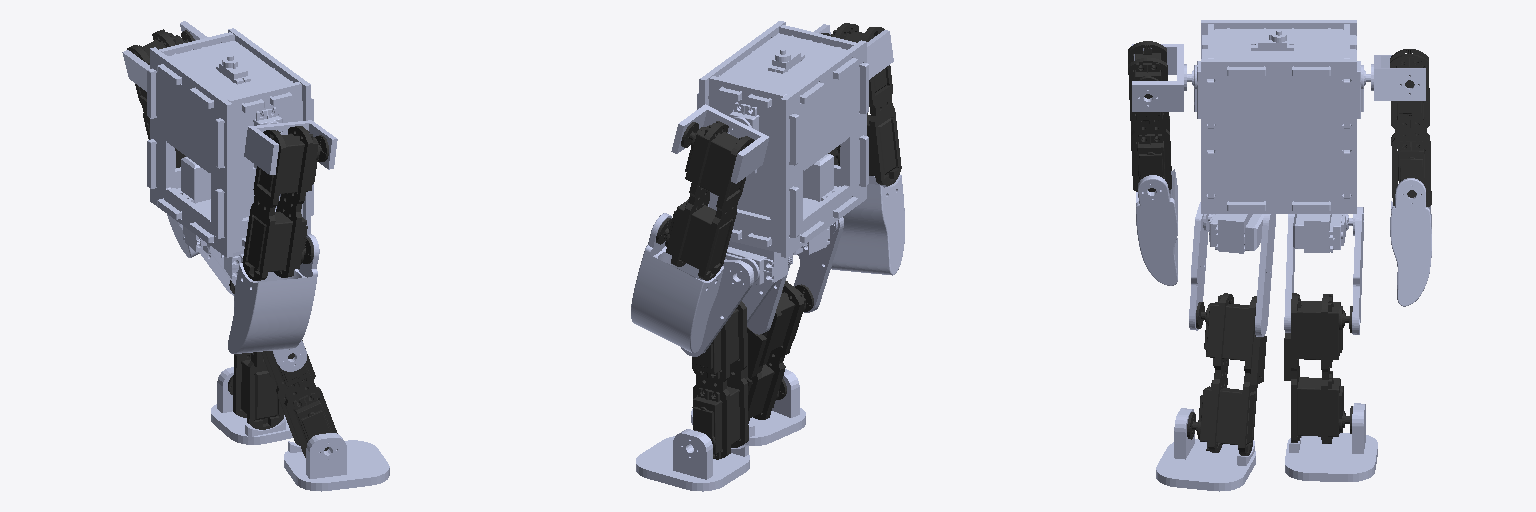
robot.urdf — body_urdf_files:
<?xml version="1.0" encoding="utf-8"?>
<!-- This URDF was automatically created by SolidWorks to URDF Exporter! Originally created by [author] ([email redacted]) 
     Commit Version: 1.6.0-4-g7f85cfe  Build Version: 1.6.7995.38578
     For more information, please see http://wiki.ros.org/sw_urdf_exporter -->
<robot
  name="body_urdf_files">
  <link
    name="base_link">
    <inertial>
      <origin
        xyz="-0.11271 0.008711 0.082756"
        rpy="0 0 0" />
      <mass
        value="0.42184" />
      <inertia
        ixx="0.00054477"
        ixy="1.2005E-12"
        ixz="5.5825E-07"
        iyy="0.00040696"
        iyz="-3.7046E-08"
        izz="0.00034189" />
    </inertial>
    <visual>
      <origin
        xyz="0 0 0"
        rpy="0 0 0" />
      <geometry>
        <mesh
          filename="package://body_urdf_files/meshes/base_link.STL" />
      </geometry>
      <material
        name="">
        <color
          rgba="0.79216 0.81961 0.93333 1" />
      </material>
    </visual>
    <collision>
      <origin
        xyz="0 0 0"
        rpy="0 0 0" />
      <geometry>
        <mesh
          filename="package://body_urdf_files/meshes/base_link_collision.STL" />
      </geometry>
    </collision>
  </link>
  <link
    name="link_right_leg_1">
    <inertial>
      <origin
        xyz="0.00063243 0.0010516 -0.015001"
        rpy="0 0 0" />
      <mass
        value="0.045094" />
      <inertia
        ixx="6.95E-06"
        ixy="6.6322E-07"
        ixz="-1.7314E-14"
        iyy="1.0766E-05"
        iyz="-6.5247E-13"
        izz="1.417E-05" />
    </inertial>
    <visual>
      <origin
        xyz="0 0 0"
        rpy="0 0 0" />
      <geometry>
        <mesh
          filename="package://body_urdf_files/meshes/link_right_leg_1.STL" />
      </geometry>
      <material
        name="">
        <color
          rgba="0.79216 0.81961 0.93333 1" />
      </material>
    </visual>
    <collision>
      <origin
        xyz="0 0 0"
        rpy="0 0 0" />
      <geometry>
        <mesh
          filename="package://body_urdf_files/meshes/link_right_leg_1_collision.STL" />
      </geometry>
    </collision>
  </link>
  <joint
    name="joint_right_leg_1"
    type="revolute">
    <origin
      xyz="-0.1037 -0.021946 0.012166"
      rpy="0 0 3.1416" />
    <parent
      link="base_link" />
    <child
      link="link_right_leg_1" />
    <axis
      xyz="0 0 -1" />
    <limit
      lower="-1.57"
      upper="1.57"
      effort="0.9218"
      velocity="0.2" />
  </joint>
  <link
    name="link_right_leg_2">
    <inertial>
      <origin
        xyz="-0.0179411667908212 -0.0191465626137488 -0.0347537052405199"
        rpy="0 0 0" />
      <mass
        value="0.0235211183496437" />
      <inertia
        ixx="1.57759234089372E-05"
        ixy="6.36270538890195E-07"
        ixz="-4.58679749286696E-06"
        iyy="1.82616481047403E-05"
        iyz="1.10583812995229E-06"
        izz="2.8905282600421E-06" />
    </inertial>
    <visual>
      <origin
        xyz="0 0 0"
        rpy="0 0 0" />
      <geometry>
        <mesh
          filename="package://body_urdf_files/meshes/link_right_leg_2.STL" />
      </geometry>
      <material
        name="">
        <color
          rgba="0.792156862745098 0.819607843137255 0.933333333333333 1" />
      </material>
    </visual>
    <collision>
      <origin
        xyz="0 0 0"
        rpy="0 0 0" />
      <geometry>
        <mesh
          filename="package://body_urdf_files/meshes/link_right_leg_2_collision.STL" />
      </geometry>
    </collision>
  </link>
  <joint
    name="joint_right_leg_2"
    type="revolute">
    <origin
      xyz="0.016668 0.025401 -0.01725"
      rpy="0 0 0" />
    <parent
      link="link_right_leg_1" />
    <child
      link="link_right_leg_2" />
    <axis
      xyz="0.23438 0.97215 0" />
    <limit
      lower="-1.57"
      upper="1.57"
      effort="0.9218"
      velocity="0.2" />
  </joint>
  <link
    name="link_right_leg_3">
    <inertial>
      <origin
        xyz="-0.0201854124676288 -0.0252249251338612 -0.0401938897572681"
        rpy="0 0 0" />
      <mass
        value="0.0885710277412263" />
      <inertia
        ixx="3.60043673271805E-05"
        ixy="-5.74462834908742E-07"
        ixz="-7.42124531609947E-06"
        iyy="3.37601077925232E-05"
        iyz="1.78919945034082E-06"
        izz="1.63682608050573E-05" />
    </inertial>
    <visual>
      <origin
        xyz="0 0 0"
        rpy="0 0 0" />
      <geometry>
        <mesh
          filename="package://body_urdf_files/meshes/link_right_leg_3.STL" />
      </geometry>
      <material
        name="">
        <color
          rgba="0.250980392156863 0.250980392156863 0.250980392156863 1" />
      </material>
    </visual>
    <collision>
      <origin
        xyz="0 0 0"
        rpy="0 0 0" />
      <geometry>
        <mesh
          filename="package://body_urdf_files/meshes/link_right_leg_3_collision.STL" />
      </geometry>
    </collision>
  </link>
  <joint
    name="joint_right_leg_3"
    type="revolute">
    <origin
      xyz="-0.024254 0.0058474 -0.07164"
      rpy="0 0 0" />
    <parent
      link="link_right_leg_2" />
    <child
      link="link_right_leg_3" />
    <axis
      xyz="0.23438 0.97215 0" />
    <limit
      lower="-1.57"
      upper="1.57"
      effort="0.9218"
      velocity="0.2" />
  </joint>
  <link
    name="link_right_leg_4">
    <inertial>
      <origin
        xyz="0.015863 -0.018727 0.021827"
        rpy="0 0 0" />
      <mass
        value="0.043507" />
      <inertia
        ixx="1.92E-05"
        ixy="1.3179E-06"
        ixz="-2.293E-06"
        iyy="2.0588E-05"
        iyz="1.9775E-06"
        izz="3.3366E-05" />
    </inertial>
    <visual>
      <origin
        xyz="0 0 0"
        rpy="0 0 0" />
      <geometry>
        <mesh
          filename="package://body_urdf_files/meshes/link_right_leg_4.STL" />
      </geometry>
      <material
        name="">
        <color
          rgba="0.79216 0.81961 0.93333 1" />
      </material>
    </visual>
    <collision>
      <origin
        xyz="0 0 0"
        rpy="0 0 0" />
      <geometry>
        <mesh
          filename="package://body_urdf_files/meshes/link_right_leg_4_collision.STL" />
      </geometry>
    </collision>
  </link>
  <joint
    name="joint_right_leg_4"
    type="revolute">
    <origin
      xyz="-0.024947 0.015272 -0.081588"
      rpy="3.1416 0 3.1416" />
    <parent
      link="link_right_leg_3" />
    <child
      link="link_right_leg_4" />
    <axis
      xyz="-0.23438 0.97215 0" />
    <limit
      lower="-1.57"
      upper="1.57"
      effort="0.9218"
      velocity="0.2" />
  </joint>
  <link
    name="link_left_leg_1">
    <inertial>
      <origin
        xyz="0.000289531083426817 -0.00119245301812246 -0.0150006224241497"
        rpy="0 0 0" />
      <mass
        value="0.045093545635916" />
      <inertia
        ixx="6.91232751465115E-06"
        ixy="5.42705206394702E-07"
        ixz="-2.03242021535869E-13"
        iyy="1.0803797279876E-05"
        iyz="-6.35887197655272E-13"
        izz="1.41697361849742E-05" />
    </inertial>
    <visual>
      <origin
        xyz="0 0 0"
        rpy="0 0 0" />
      <geometry>
        <mesh
          filename="package://body_urdf_files/meshes/link_left_leg_1.STL" />
      </geometry>
      <material
        name="">
        <color
          rgba="0.792156862745098 0.819607843137255 0.933333333333333 1" />
      </material>
    </visual>
    <collision>
      <origin
        xyz="0 0 0"
        rpy="0 0 0" />
      <geometry>
        <mesh
          filename="package://body_urdf_files/meshes/link_left_leg_1_collision.STL" />
      </geometry>
    </collision>
  </link>
  <joint
    name="joint_left_leg_1"
    type="revolute">
    <origin
      xyz="-0.1037 0.039488 0.012166"
      rpy="0 0 3.1416" />
    <parent
      link="base_link" />
    <child
      link="link_left_leg_1" />
    <axis
      xyz="0 0 -1" />
    <limit
      lower="-1.57"
      upper="1.57"
      effort="0.9218"
      velocity="0.2" />
  </joint>
  <link
    name="link_left_leg_2">
    <inertial>
      <origin
        xyz="-0.019188 0.024151 -0.030739"
        rpy="0 0 0" />
      <mass
        value="0.023521" />
      <inertia
        ixx="1.2791E-05"
        ixy="3.7565E-07"
        ixz="-7.0887E-06"
        iyy="1.839E-05"
        iyz="4.7346E-07"
        izz="5.7474E-06" />
    </inertial>
    <visual>
      <origin
        xyz="0 0 0"
        rpy="0 0 0" />
      <geometry>
        <mesh
          filename="package://body_urdf_files/meshes/link_left_leg_2.STL" />
      </geometry>
      <material
        name="">
        <color
          rgba="0.79216 0.81961 0.93333 1" />
      </material>
    </visual>
    <collision>
      <origin
        xyz="0 0 0"
        rpy="0 0 0" />
      <geometry>
        <mesh
          filename="package://body_urdf_files/meshes/link_left_leg_2_collision.STL" />
      </geometry>
    </collision>
  </link>
  <joint
    name="joint_left_leg_2"
    type="revolute">
    <origin
      xyz="0.0083212 -0.02922 -0.01725"
      rpy="0 0 0" />
    <parent
      link="link_left_leg_1" />
    <child
      link="link_left_leg_2" />
    <axis
      xyz="0.066643 0.99778 0" />
    <limit
      lower="-1.57"
      upper="1.57"
      effort="0.9218"
      velocity="0.2" />
  </joint>
  <link
    name="link_left_leg_3">
    <inertial>
      <origin
        xyz="0.00261355430144429 0.0291439049418027 -0.0424629084715156"
        rpy="0 0 0" />
      <mass
        value="0.0885710279106685" />
      <inertia
        ixx="3.8718083970177E-05"
        ixy="-3.40398542135061E-07"
        ixz="3.90589175561294E-07"
        iyy="3.36443452169483E-05"
        iyz="-2.60878387824978E-08"
        izz="1.3770307002436E-05" />
    </inertial>
    <visual>
      <origin
        xyz="0 0 0"
        rpy="0 0 0" />
      <geometry>
        <mesh
          filename="package://body_urdf_files/meshes/link_left_leg_3.STL" />
      </geometry>
      <material
        name="">
        <color
          rgba="0.250980392156863 0.250980392156863 0.250980392156863 1" />
      </material>
    </visual>
    <collision>
      <origin
        xyz="0 0 0"
        rpy="0 0 0" />
      <geometry>
        <mesh
          filename="package://body_urdf_files/meshes/link_left_leg_3_collision.STL" />
      </geometry>
    </collision>
  </link>
  <joint
    name="joint_left_leg_3"
    type="revolute">
    <origin
      xyz="-0.040987 0.0027375 -0.063776"
      rpy="0 0 0" />
    <parent
      link="link_left_leg_2" />
    <child
      link="link_left_leg_3" />
    <axis
      xyz="0.066643 0.99778 0" />
    <limit
      lower="-1.57"
      upper="1.57"
      effort="0.9218"
      velocity="0.2" />
  </joint>
  <link
    name="link_left_leg_4">
    <inertial>
      <origin
        xyz="-0.0122739796083057 -0.0182225414807927 -0.021826744971205"
        rpy="0 0 0" />
      <mass
        value="0.0870145940816905" />
      <inertia
        ixx="3.9754670635112E-05"
        ixy="4.48152690031577E-09"
        ixz="-3.52336993284012E-06"
        iyy="3.98214690897593E-05"
        iyz="2.35329351813237E-07"
        izz="6.67325017223069E-05" />
    </inertial>
    <visual>
      <origin
        xyz="0 0 0"
        rpy="0 0 0" />
      <geometry>
        <mesh
          filename="package://body_urdf_files/meshes/link_left_leg_4.STL" />
      </geometry>
      <material
        name="">
        <color
          rgba="0.792156862745098 0.819607843137255 0.933333333333333 1" />
      </material>
    </visual>
    <collision>
      <origin
        xyz="0 0 0"
        rpy="0 0 0" />
      <geometry>
        <mesh
          filename="package://body_urdf_files/meshes/link_left_leg_4_collision.STL" />
      </geometry>
    </collision>
  </link>
  <joint
    name="joint_left_leg_4"
    type="revolute">
    <origin
      xyz="0.0013479 -9.0028E-05 -0.086194"
      rpy="0 0 0" />
    <parent
      link="link_left_leg_3" />
    <child
      link="link_left_leg_4" />
    <axis
      xyz="-0.066643 -0.99778 0" />
    <limit
      lower="-1.57"
      upper="1.57"
      effort="0.9218"
      velocity="0.2" />
  </joint>
  <link
    name="link_right_arm_1">
    <inertial>
      <origin
        xyz="0.00043229 0.013421 6.0742E-05"
        rpy="0 0 0" />
      <mass
        value="0.015438" />
      <inertia
        ixx="3.3686E-06"
        ixy="-9.3955E-08"
        ixz="-9.7163E-07"
        iyy="8.7062E-06"
        iyz="-1.3202E-08"
        izz="1.0147E-05" />
    </inertial>
    <visual>
      <origin
        xyz="0 0 0"
        rpy="0 0 0" />
      <geometry>
        <mesh
          filename="package://body_urdf_files/meshes/link_right_arm_1.STL" />
      </geometry>
      <material
        name="">
        <color
          rgba="0.79216 0.81961 0.93333 1" />
      </material>
    </visual>
    <collision>
      <origin
        xyz="0 0 0"
        rpy="0 0 0" />
      <geometry>
        <mesh
          filename="package://body_urdf_files/meshes/link_right_arm_1_collision.STL" />
      </geometry>
    </collision>
  </link>
  <joint
    name="joint_right_arm_1"
    type="revolute">
    <origin
      xyz="-0.11395 -0.064629 0.11681"
      rpy="0 0 3.1416" />
    <parent
      link="base_link" />
    <child
      link="link_right_arm_1" />
    <axis
      xyz="0 1 0" />
    <limit
      lower="-1.57"
      upper="1.57"
      effort="0.9218"
      velocity="0.2" />
  </joint>
  <link
    name="link_right_arm_2">
    <inertial>
      <origin
        xyz="0.0339602330058164 -0.00140695201636803 -0.0387802160392867"
        rpy="0 0 0" />
      <mass
        value="0.0843265047221693" />
      <inertia
        ixx="3.25873098555874E-05"
        ixy="1.14115097543406E-07"
        ixz="2.67119444403901E-06"
        iyy="3.8257358357345E-05"
        iyz="-8.12127143019655E-07"
        izz="1.39524623316252E-05" />
    </inertial>
    <visual>
      <origin
        xyz="0 0 0"
        rpy="0 0 0" />
      <geometry>
        <mesh
          filename="package://body_urdf_files/meshes/link_right_arm_2.STL" />
      </geometry>
      <material
        name="">
        <color
          rgba="0.250980392156863 0.250980392156863 0.250980392156863 1" />
      </material>
    </visual>
    <collision>
      <origin
        xyz="0 0 0"
        rpy="0 0 0" />
      <geometry>
        <mesh
          filename="package://body_urdf_files/meshes/link_right_arm_2_collision.STL" />
      </geometry>
    </collision>
  </link>
  <joint
    name="joint_right_arm_2"
    type="revolute">
    <origin
      xyz="-0.023568 0.0275 -0.0033117"
      rpy="0 0 0" />
    <parent
      link="link_right_arm_1" />
    <child
      link="link_right_arm_2" />
    <axis
      xyz="0.99027 0 0.13915" />
    <limit
      lower="-1.57"
      upper="1.57"
      effort="0.9218"
      velocity="0.2" />
  </joint>
  <link
    name="link_right_arm_3">
    <inertial>
      <origin
        xyz="0.024606 -0.0054508 -0.039884"
        rpy="0 0 0" />
      <mass
        value="0.034964" />
      <inertia
        ixx="2.2521E-05"
        ixy="5.7455E-07"
        ixz="4.2654E-06"
        iyy="3.1751E-05"
        iyz="-1.5469E-06"
        izz="1.7492E-05" />
    </inertial>
    <visual>
      <origin
        xyz="0 0 0"
        rpy="0 0 0" />
      <geometry>
        <mesh
          filename="package://body_urdf_files/meshes/link_right_arm_3.STL" />
      </geometry>
      <material
        name="">
        <color
          rgba="0.79216 0.81961 0.93333 1" />
      </material>
    </visual>
    <collision>
      <origin
        xyz="0 0 0"
        rpy="0 0 0" />
      <geometry>
        <mesh
          filename="package://body_urdf_files/meshes/link_right_arm_3_collision.STL" />
      </geometry>
    </collision>
  </link>
  <joint
    name="joint_right_arm_3"
    type="revolute">
    <origin
      xyz="0.011988 -0.0028598 -0.085319"
      rpy="0 0 0" />
    <parent
      link="link_right_arm_2" />
    <child
      link="link_right_arm_3" />
    <axis
      xyz="0.99027 0 0.13915" />
    <limit
      lower="-1.57"
      upper="1.57"
      effort="0.9218"
      velocity="0.2" />
  </joint>
  <link
    name="link_left_arm_1">
    <inertial>
      <origin
        xyz="0.00042348927780031 -0.0134210554645642 -0.000105920018624112"
        rpy="0 0 0" />
      <mass
        value="0.0154375276983831" />
      <inertia
        ixx="3.64724793651552E-06"
        ixy="9.20428943464276E-08"
        ixz="1.65980758563093E-06"
        iyy="8.70624786729584E-06"
        iyz="-2.30210907204673E-08"
        izz="9.868349574434E-06" />
    </inertial>
    <visual>
      <origin
        xyz="0 0 0"
        rpy="0 0 0" />
      <geometry>
        <mesh
          filename="package://body_urdf_files/meshes/link_left_arm_1.STL" />
      </geometry>
      <material
        name="">
        <color
          rgba="0.792156862745098 0.819607843137255 0.933333333333333 1" />
      </material>
    </visual>
    <collision>
      <origin
        xyz="0 0 0"
        rpy="0 0 0" />
      <geometry>
        <mesh
          filename="package://body_urdf_files/meshes/link_left_arm_1_collision.STL" />
      </geometry>
    </collision>
  </link>
  <joint
    name="joint_left_arm_1"
    type="revolute">
    <origin
      xyz="-0.11395 0.082171 0.11681"
      rpy="0 0 3.1416" />
    <parent
      link="base_link" />
    <child
      link="link_left_arm_1" />
    <axis
      xyz="0 -1 0" />
    <limit
      lower="-1.57"
      upper="1.57"
      effort="0.9218"
      velocity="0.2" />
  </joint>
  <link
    name="link_left_arm_2">
    <inertial>
      <origin
        xyz="0.0169216197295038 -0.000800020748780966 -0.0487052443915875"
        rpy="0 0 0" />
      <mass
        value="0.0843265053503444" />
      <inertia
        ixx="3.18202864891716E-05"
        ixy="-1.14665652317147E-07"
        ixz="-4.5673950934939E-06"
        iyy="3.82755476300154E-05"
        iyz="-4.58456093141091E-07"
        izz="1.47012967514871E-05" />
    </inertial>
    <visual>
      <origin
        xyz="0 0 0"
        rpy="0 0 0" />
      <geometry>
        <mesh
          filename="package://body_urdf_files/meshes/link_left_arm_2.STL" />
      </geometry>
      <material
        name="">
        <color
          rgba="0.250980392156863 0.250980392156863 0.250980392156863 1" />
      </material>
    </visual>
    <collision>
      <origin
        xyz="0 0 0"
        rpy="0 0 0" />
      <geometry>
        <mesh
          filename="package://body_urdf_files/meshes/link_left_arm_2_collision.STL" />
      </geometry>
    </collision>
  </link>
  <joint
    name="joint_left_arm_2"
    type="revolute">
    <origin
      xyz="-0.023089 -0.0275 0.0057748"
      rpy="0 0 0" />
    <parent
      link="link_left_arm_1" />
    <child
      link="link_left_arm_2" />
    <axis
      xyz="0.97012 0 -0.24264" />
    <limit
      lower="-1.57"
      upper="1.57"
      effort="0.9218"
      velocity="0.2" />
  </joint>
  <link
    name="link_left_arm_3">
    <inertial>
      <origin
        xyz="0.0077583625375509 0.000745387915609325 -0.0465328644527464"
        rpy="0 0 0" />
      <mass
        value="0.0349624152925252" />
      <inertia
        ixx="2.47787143663493E-05"
        ixy="-2.17214139362107E-09"
        ixz="1.29123950438143E-06"
        iyy="3.19173997790936E-05"
        iyz="-8.7165428009656E-08"
        izz="1.50664366292392E-05" />
    </inertial>
    <visual>
      <origin
        xyz="0 0 0"
        rpy="0 0 0" />
      <geometry>
        <mesh
          filename="package://body_urdf_files/meshes/link_left_arm_3.STL" />
      </geometry>
      <material
        name="">
        <color
          rgba="0.792156862745098 0.819607843137255 0.933333333333333 1" />
      </material>
    </visual>
    <collision>
      <origin
        xyz="0 0 0"
        rpy="0 0 0" />
      <geometry>
        <mesh
          filename="package://body_urdf_files/meshes/link_left_arm_3_collision.STL" />
      </geometry>
    </collision>
  </link>
  <joint
    name="joint_left_arm_3"
    type="revolute">
    <origin
      xyz="-0.020913 -0.0016473 -0.083613"
      rpy="0 0 0" />
    <parent
      link="link_left_arm_2" />
    <child
      link="link_left_arm_3" />
    <axis
      xyz="0.97012 0 -0.24264" />
    <limit
      lower="-1.57"
      upper="1.57"
      effort="0.9218"
      velocity="0.2" />
  </joint>
</robot>

--- Facts derived from the render (not from the file) ---
Views: 3 orthographic renders of the robot side by side, from view 1: azimuth 30°, elevation 25°; view 2: azimuth 150°, elevation 25°; view 3: azimuth 270°, elevation 25°.
Robot: body_urdf_files — 15 links, 14 joints (14 revolute); root link base_link; default pose: all joints at 0.
Visible links, largest first — view 1: base_link, link_right_arm_2, link_right_arm_3, link_right_leg_4, link_right_leg_3, link_left_leg_3, link_left_leg_4, link_right_arm_1, link_left_arm_2, link_left_arm_1, link_right_leg_2, link_left_leg_2; view 2: base_link, link_left_arm_2, link_left_arm_3, link_left_leg_3, link_right_arm_3, link_left_leg_4, link_right_leg_3, link_right_arm_2, link_left_leg_2, link_right_leg_2, link_left_arm_1, link_right_leg_4 (+2 smaller); view 3: base_link, link_right_leg_3, link_left_leg_3, link_right_leg_4, link_left_leg_4, link_right_arm_2, link_left_arm_3, link_left_arm_2, link_right_arm_3, link_right_leg_2, link_right_arm_1, link_left_leg_1 (+3 smaller).
Boxes of the visible links, x1,y1,x2,y2 form: base_link: (147,28,313,257); link_right_arm_2: (242,126,328,280); link_right_arm_3: (228,234,319,353); link_right_leg_4: (284,433,389,491); link_right_leg_3: (261,340,337,457); link_left_leg_3: (228,280,284,429); link_left_leg_4: (211,367,292,444); link_right_arm_1: (244,120,337,174); link_left_arm_2: (127,29,194,167); link_left_arm_1: (122,21,207,91); link_right_leg_2: (236,279,306,371); link_left_leg_2: (178,222,235,295); base_link: (697,21,868,257); link_left_arm_2: (656,121,754,280); link_left_arm_3: (631,213,723,352); link_left_leg_3: (692,301,748,459); link_right_arm_3: (831,175,904,275); link_left_leg_4: (636,429,749,491); link_right_leg_3: (746,281,813,423); link_right_arm_2: (821,23,901,185); link_left_leg_2: (681,254,792,356); link_right_leg_2: (747,217,843,334); link_left_arm_1: (671,104,769,183); link_right_leg_4: (691,369,805,445); base_link: (1184,20,1373,213); link_right_leg_3: (1187,293,1266,455); link_left_leg_3: (1284,293,1352,443); link_right_leg_4: (1156,408,1255,491); link_left_leg_4: (1285,403,1377,481); link_right_arm_2: (1128,41,1171,191); link_left_arm_3: (1390,178,1431,306); link_left_arm_2: (1390,49,1431,206); link_right_arm_3: (1136,169,1177,285); link_right_leg_2: (1189,202,1275,336); link_right_arm_1: (1132,44,1183,111); link_left_leg_1: (1293,214,1355,252).
Bounding box of the posed robot: 0.1511 × 0.2345 × 0.3445 m (x, y, z).
15 mesh visuals loaded from 15 distinct referenced files (15 binary STL).